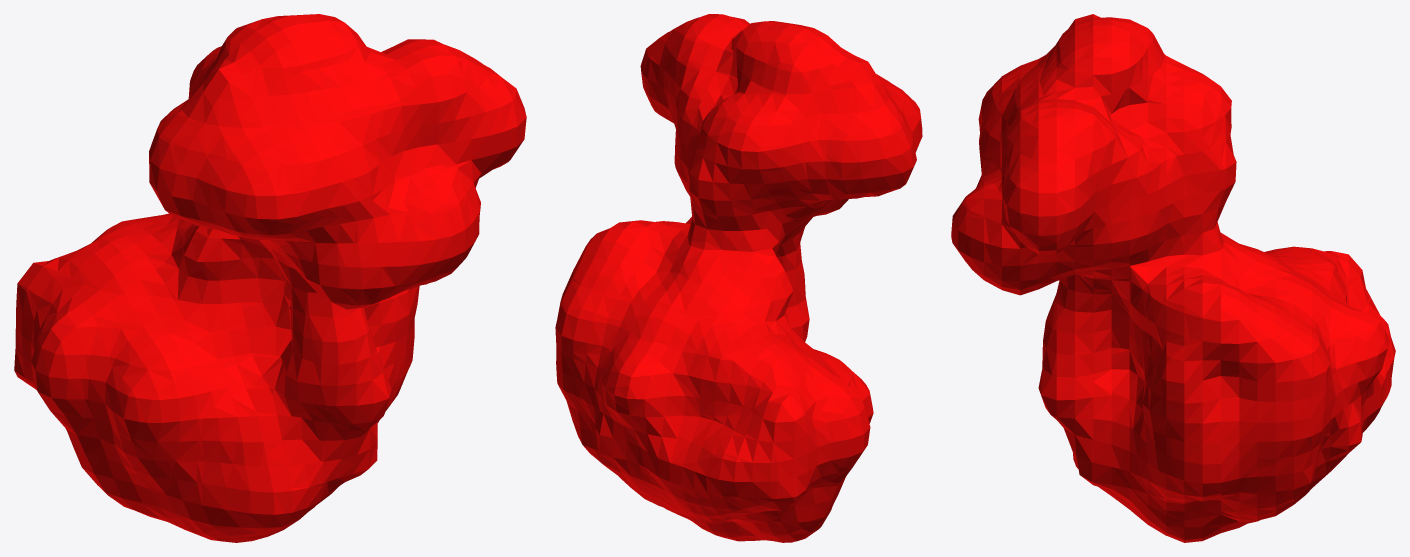
File: xerC_coarse.dae
The picture shows the model from 3 angles, left to right: view 1: azimuth 30°, elevation 25°; view 2: azimuth 150°, elevation 25°; view 3: azimuth 270°, elevation 25°; orthographic projection. The views are drawn at different scales.
Parts seen in each view (by area): view 1: xerC; view 2: xerC; view 3: xerC.
Part boxes in pixels (box(x1,y1,x2,y2)): xerC: box(14, 14, 526, 542); xerC: box(555, 14, 922, 542); xerC: box(951, 14, 1395, 542).
Bounding box in the file's own units: 51.91 × 72.83 × 58.4.
